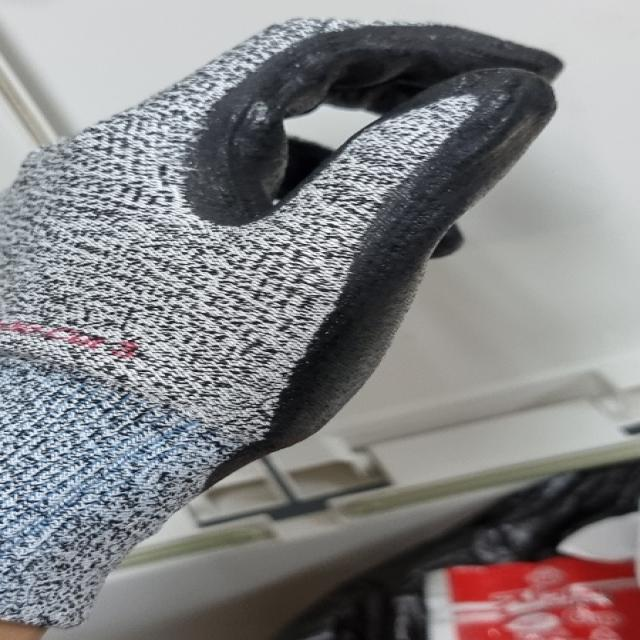Gloves: (1, 13, 570, 640)
